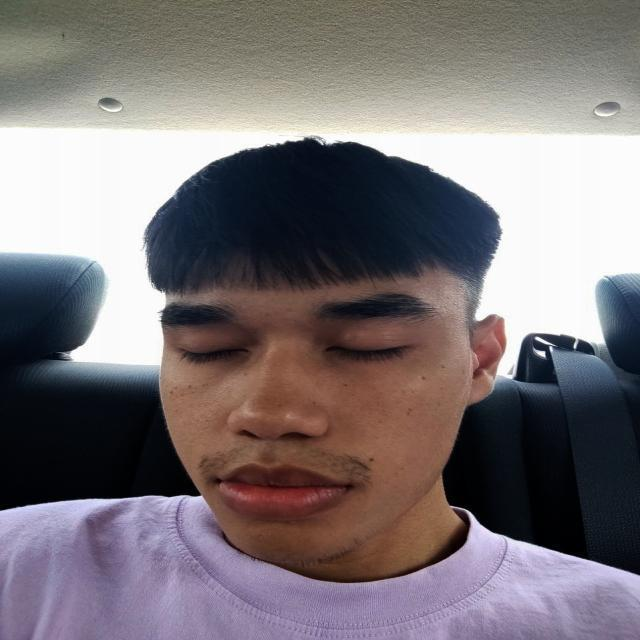sleepy: (159, 285, 467, 564)
